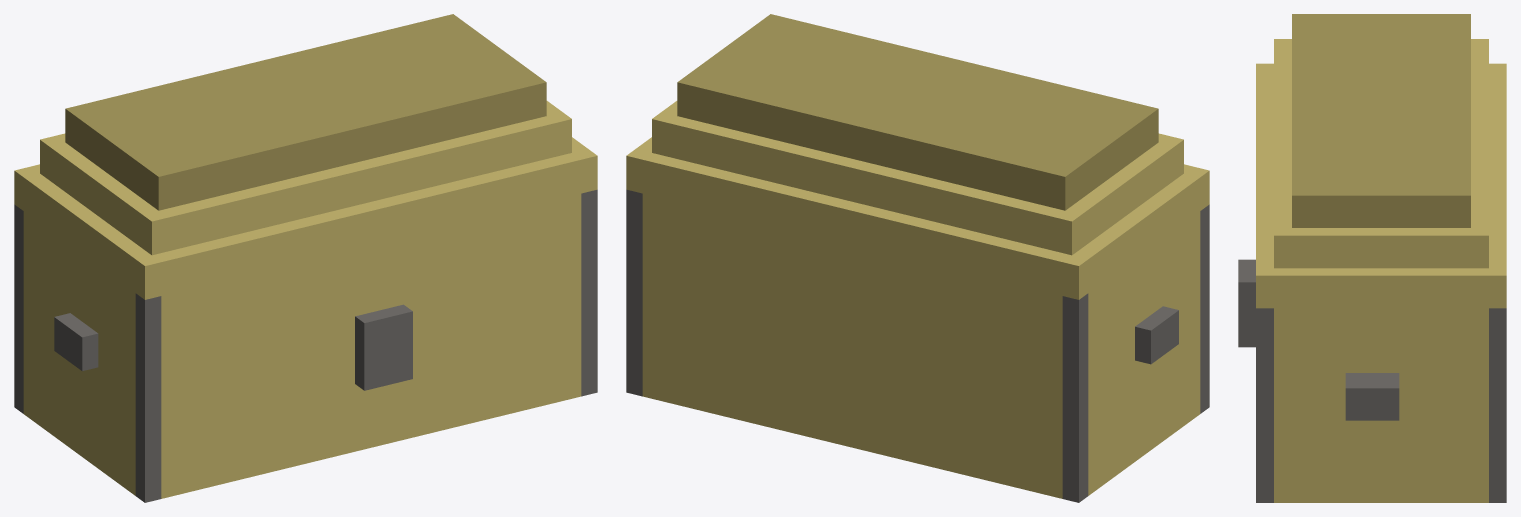
The model's file is cofre_ornamentado_01.glb.
3 renders of one model, left to right at view 1: azimuth 30°, elevation 25°; view 2: azimuth 150°, elevation 25°; view 3: azimuth 270°, elevation 25°, orthographic. The views are drawn at different scales.
Visible parts, largest first — view 1: cofre_ornamentado; view 2: cofre_ornamentado; view 3: cofre_ornamentado.
Part boxes in pixels (x1,y1,x2,y2): cofre_ornamentado: (14,14,597,502); cofre_ornamentado: (626,14,1209,502); cofre_ornamentado: (1238,14,1506,502).
Size of the model in its own units: 2.21 by 1.29 by 1.07.
